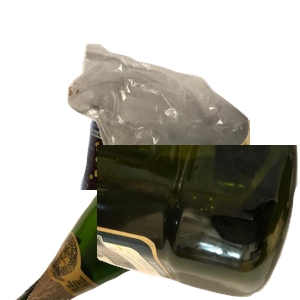glass: (13, 120, 253, 300)
metal: (78, 63, 266, 243)
plastic: (97, 145, 300, 300)
trash: (65, 41, 300, 221)
